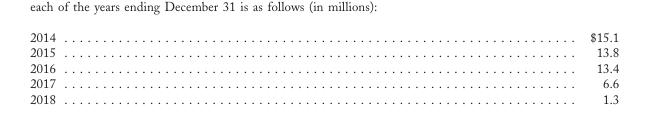table: (29, 28, 618, 106)
table column: (322, 28, 618, 106), (29, 28, 322, 106)
table row: (29, 28, 618, 44), (29, 59, 618, 75), (29, 90, 618, 106), (29, 44, 618, 59), (29, 75, 618, 90)
